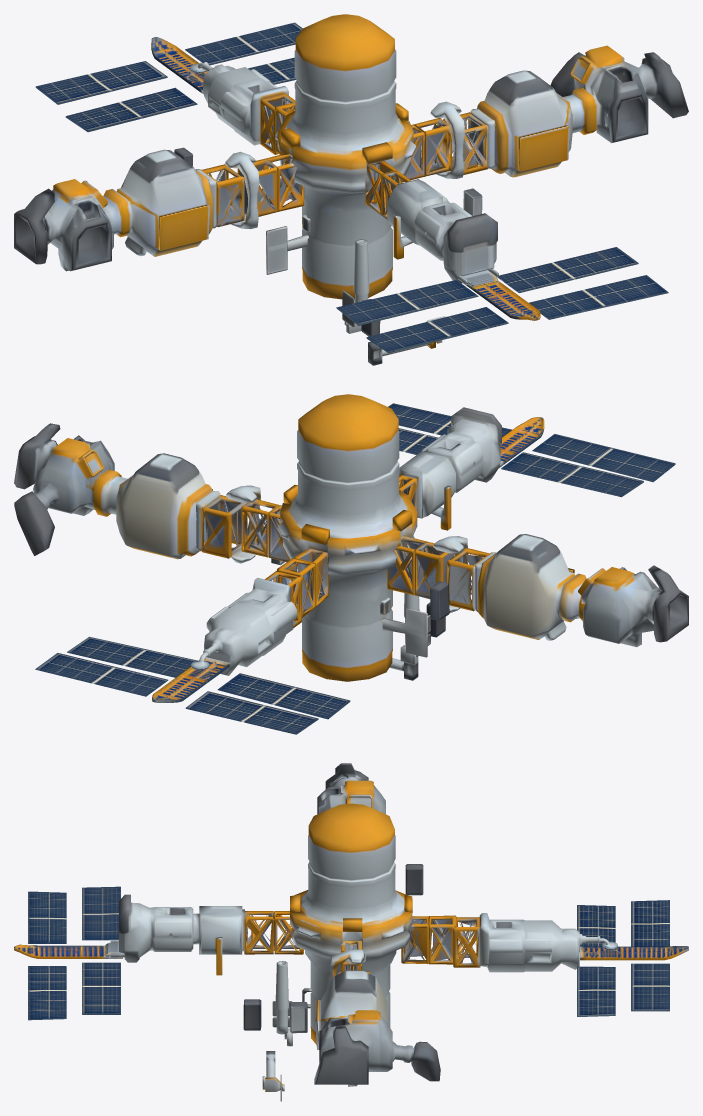
File: station-b.glb
3 views of the same model, one above another, from view 1: azimuth 30°, elevation 25°; view 2: azimuth 150°, elevation 25°; view 3: azimuth 270°, elevation 25° (orthographic). The views are drawn at different scales.
Visible parts, largest first — view 1: tripo_16272e19_a8c3_471f_8557_6fae7a75e5df; view 2: tripo_16272e19_a8c3_471f_8557_6fae7a75e5df; view 3: tripo_16272e19_a8c3_471f_8557_6fae7a75e5df.
Part boxes in pixels (bbox=[...]): tripo_16272e19_a8c3_471f_8557_6fae7a75e5df: bbox=[14, 14, 688, 365]; tripo_16272e19_a8c3_471f_8557_6fae7a75e5df: bbox=[14, 394, 688, 734]; tripo_16272e19_a8c3_471f_8557_6fae7a75e5df: bbox=[14, 763, 688, 1101].
Bounding box in the file's own units: 0.9741 × 0.4321 × 0.9995.
Materials: 1 (1 with a texture image).
